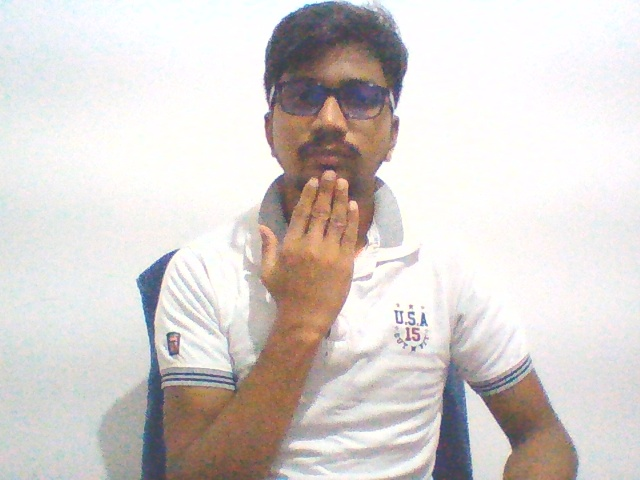mango: (249, 162, 367, 351)
